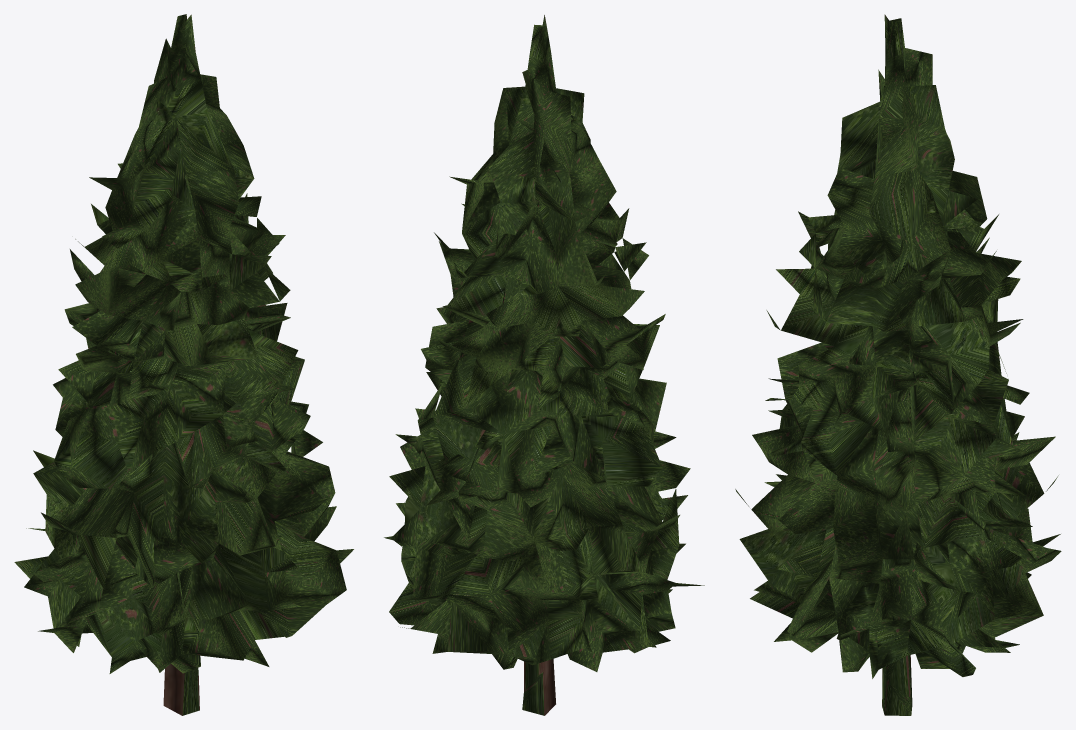
The model's file is pine-lo.glb.
3 views of the same model, side by side, from view 1: azimuth 30°, elevation 25°; view 2: azimuth 150°, elevation 25°; view 3: azimuth 270°, elevation 25° (orthographic).
Size of the model in its own units: 2.92 by 6.62 by 2.81.
Materials: 1 (1 with a texture image).
